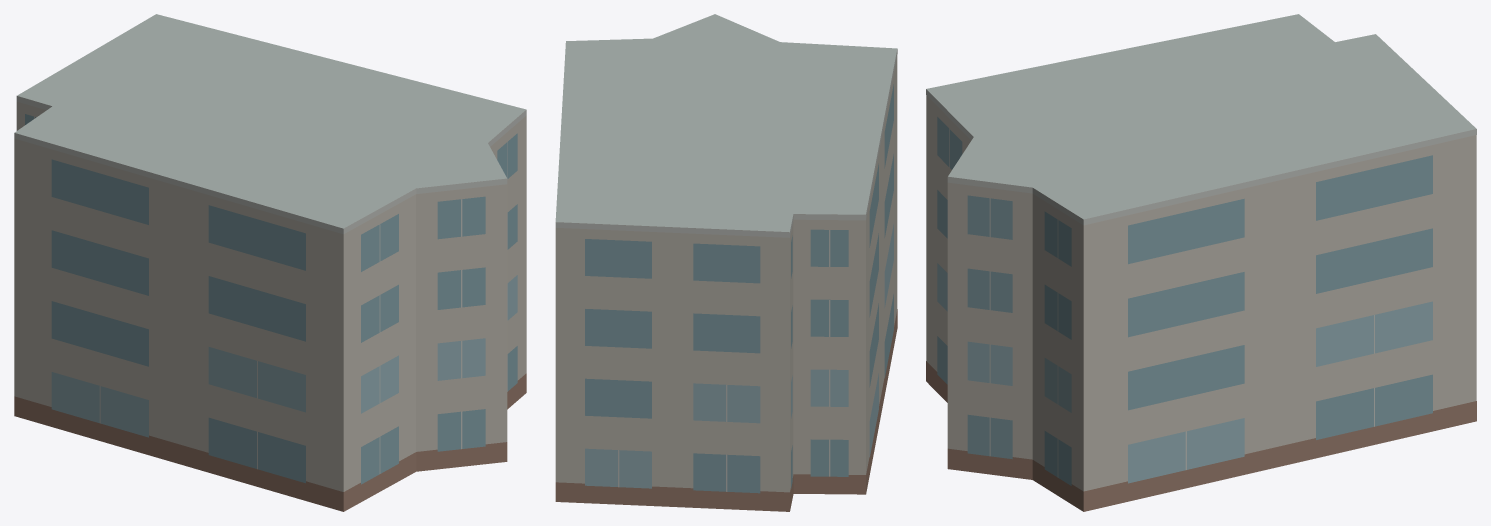
Rendered from survey-upis-32996804.glb.
3 views of the same model, side by side, from view 1: azimuth 30°, elevation 25°; view 2: azimuth 150°, elevation 25°; view 3: azimuth 270°, elevation 25° (orthographic). The views are drawn at different scales.
Parts seen in each view (by area): view 1: survey-upis-32996804.tmp; view 2: survey-upis-32996804.tmp; view 3: survey-upis-32996804.tmp.
Boxes of the visible parts, <box> form: survey-upis-32996804.tmp: <box>14,14,526,511</box>; survey-upis-32996804.tmp: <box>555,14,897,511</box>; survey-upis-32996804.tmp: <box>926,14,1476,511</box>.
Bounding box in the file's own units: 18.1 × 12 × 20.49.
